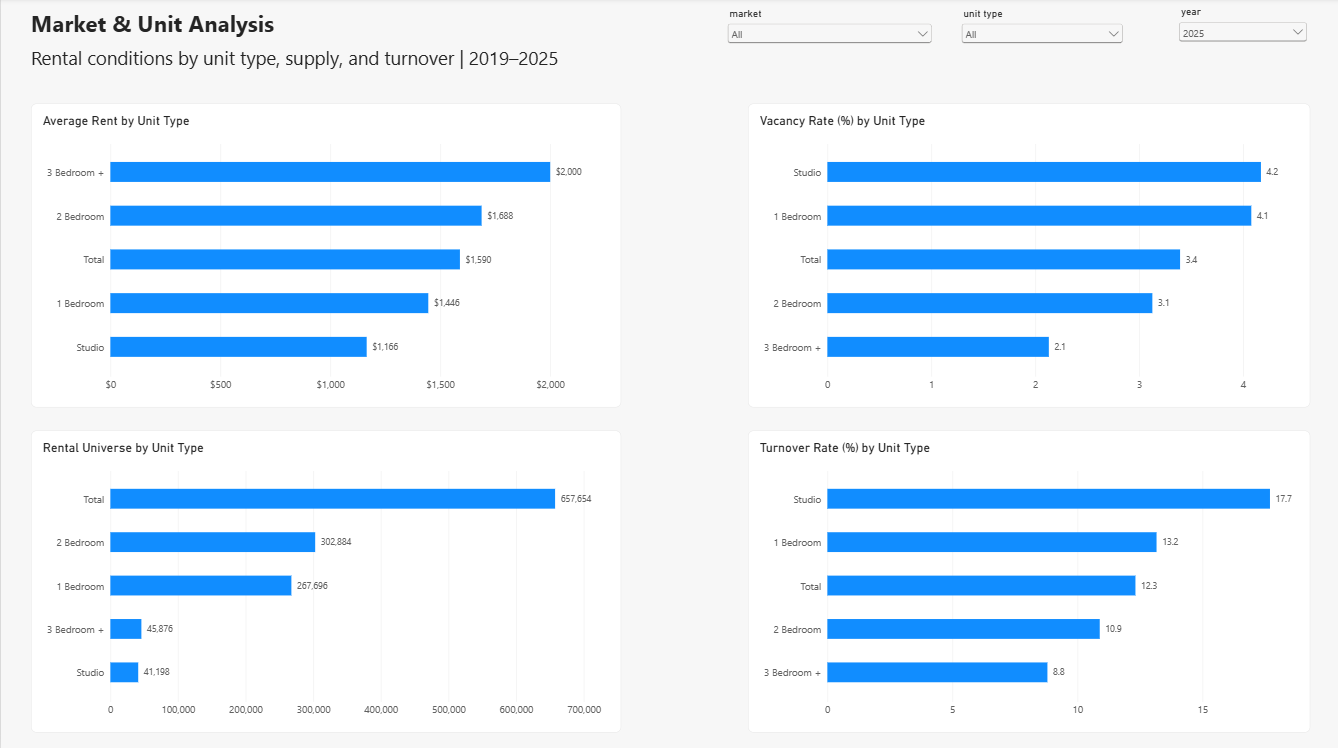

This screenshot's page, from the dashboard's own definition file:
{"tool":"powerbi","page":{"name":"Market & Unit Analysis","canvas":[1920,1080],"ordinal":1},"visuals":[{"type":"textbox","box":[43,15,391,53.7],"z":0},{"type":"textbox","box":[43,68.8,797.1,58],"z":1},{"type":"slicer","fields":{"Values":["Dim Market.market"]},"box":[1035,15,302.1,81.8],"z":2},{"type":"slicer","fields":{"Values":["Dim Year.observation_year"]},"box":[1682.5,12.5,193.1,81.8],"z":3},{"type":"slicer","fields":{"Values":["analytics vw_market_unit_analysis.unit_type"]},"box":[1370,15,240.8,79.5],"z":4},{"type":"clusteredBarChart","title":"Average Rent by Unit Type","fields":{"Category":["analytics vw_market_unit_analysis.unit_type"],"Y":["Avg(analytics vw_market_unit_analysis.average_rent)"]},"box":[42.5,152.5,845,435],"z":5},{"type":"clusteredBarChart","title":"Vacancy Rate (%) by Unit Type","fields":{"Category":["analytics vw_market_unit_analysis.unit_type"],"Y":["Avg(analytics vw_market_unit_analysis.vacancy_rate)"]},"box":[1070,152.5,805,435],"z":6},{"type":"clusteredBarChart","title":"Rental Universe by Unit Type","fields":{"Category":["analytics vw_market_unit_analysis.unit_type"],"Y":["Sum(analytics vw_market_unit_analysis.rental_universe)"]},"box":[42.5,620,845,432.5],"z":7},{"type":"clusteredBarChart","title":"Turnover Rate (%) by Unit Type","fields":{"Category":["analytics vw_market_unit_analysis.unit_type"],"Y":["Avg(analytics vw_market_unit_analysis.turnover_rate)"]},"box":[1070,620,805,432.5],"z":8}]}

Visuals, with their boxes in screenshot pixels (x1, y1, x2, y2), scaled from the page's 1920x1080 canvas onto the 1338x748 screenshot:
textbox: <box>30,10,302,48</box>
textbox: <box>30,48,585,88</box>
slicer - Dim Market.market: <box>721,10,932,67</box>
slicer - Dim Year.observation_year: <box>1172,9,1307,65</box>
slicer - analytics vw_market_unit_analysis.unit_type: <box>955,10,1123,65</box>
"Average Rent by Unit Type" clusteredBarChart: <box>30,106,618,407</box>
"Vacancy Rate (%) by Unit Type" clusteredBarChart: <box>746,106,1307,407</box>
"Rental Universe by Unit Type" clusteredBarChart: <box>30,429,618,729</box>
"Turnover Rate (%) by Unit Type" clusteredBarChart: <box>746,429,1307,729</box>
